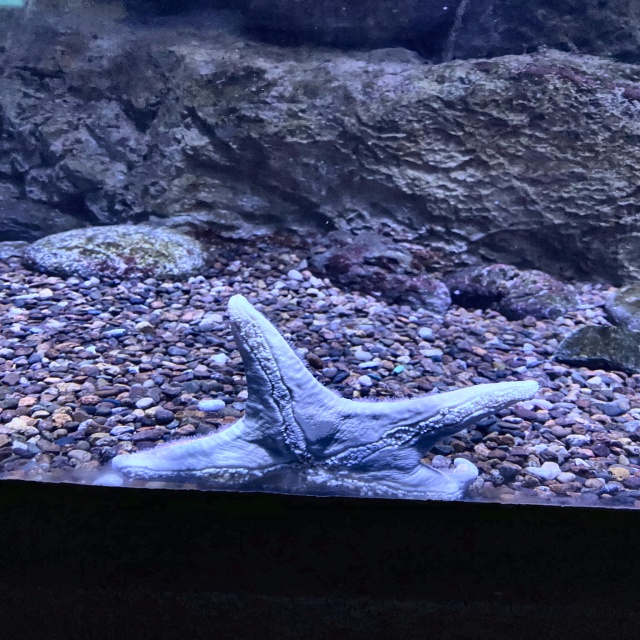starfish: (113, 292, 540, 506)
